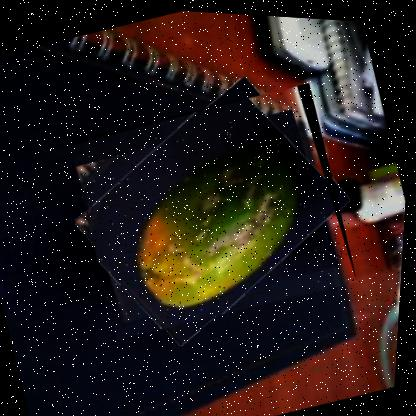orange_rotten: (60, 65, 369, 348)
